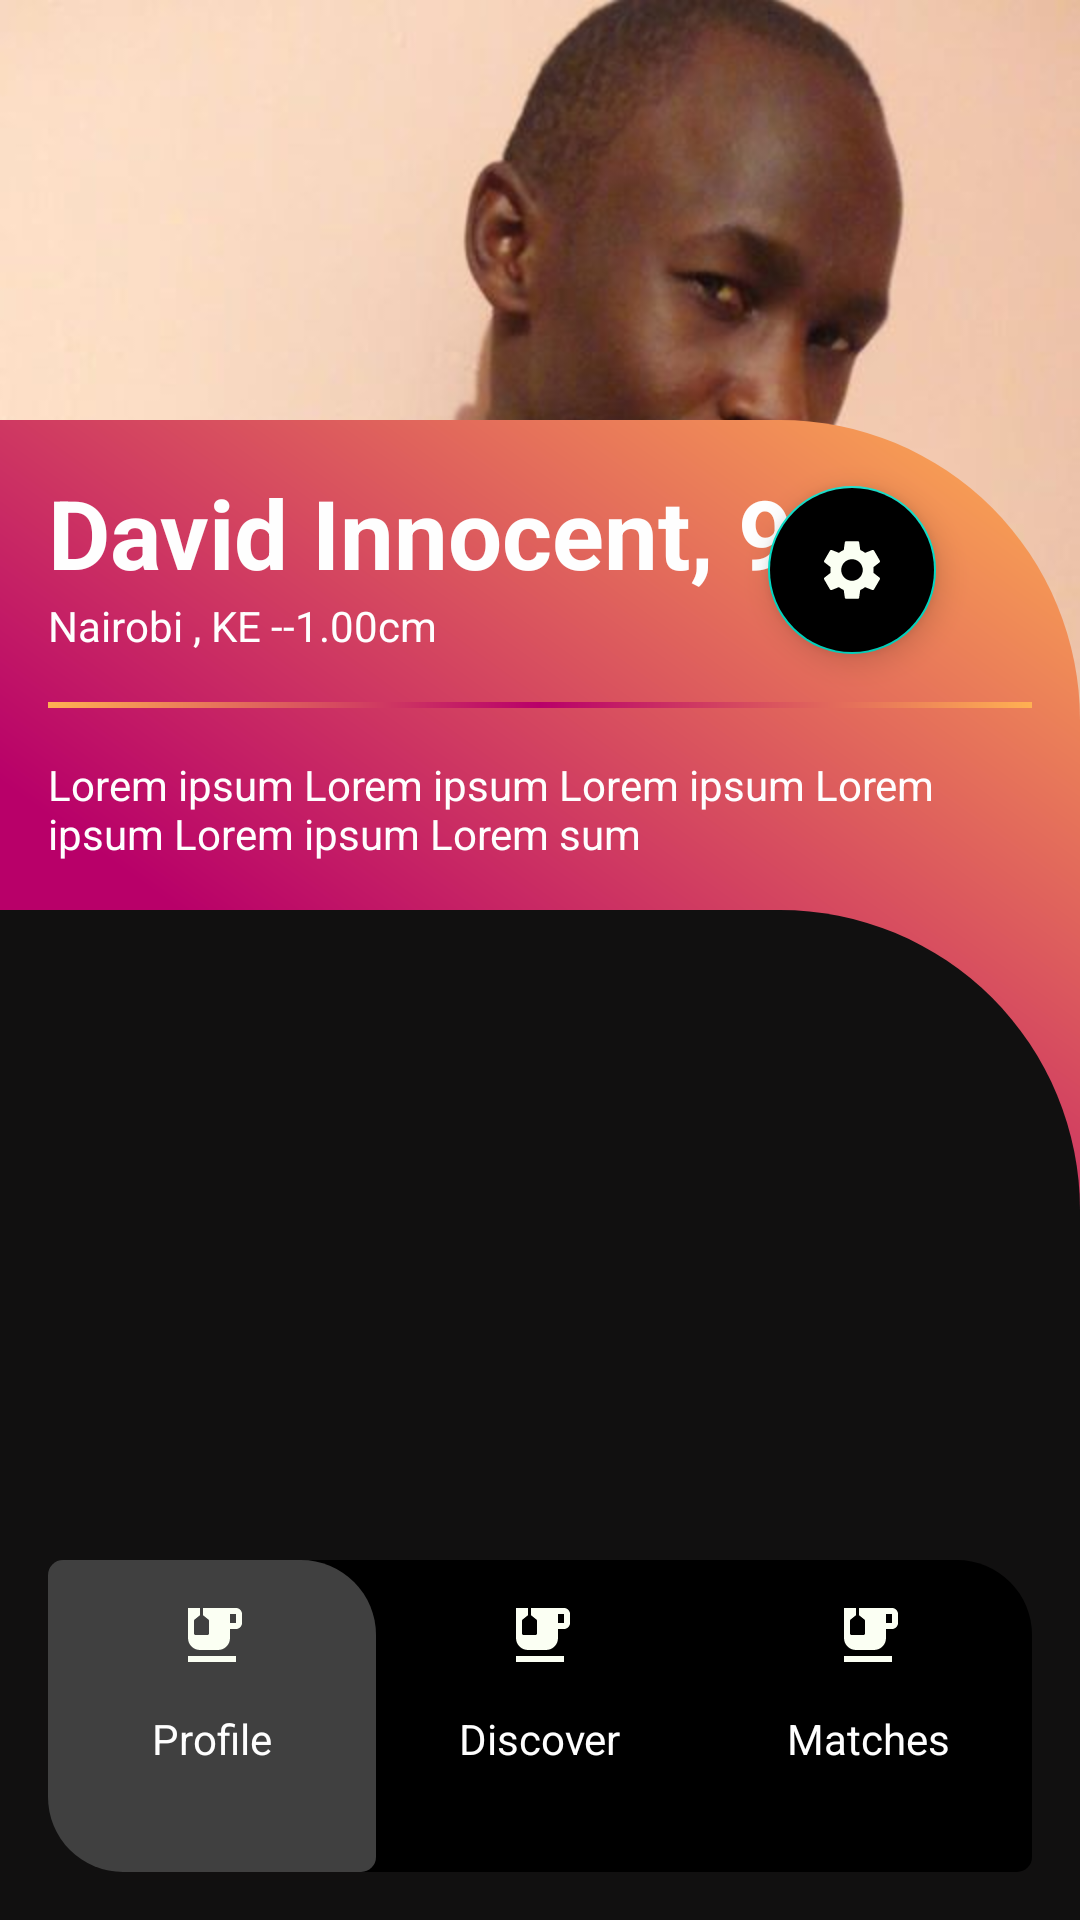

Named icons in this screenshot (1080x1920) and their centers, [x,y]:
emoji food beverage: [215,1635], [543,1635], [871,1635]
settings: [852,570]
